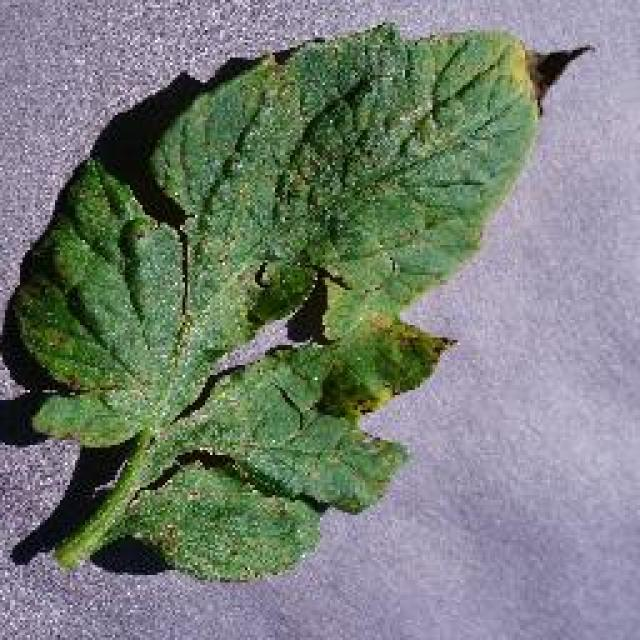Tomato___Septoria_leaf_spot: (18, 22, 538, 578)
